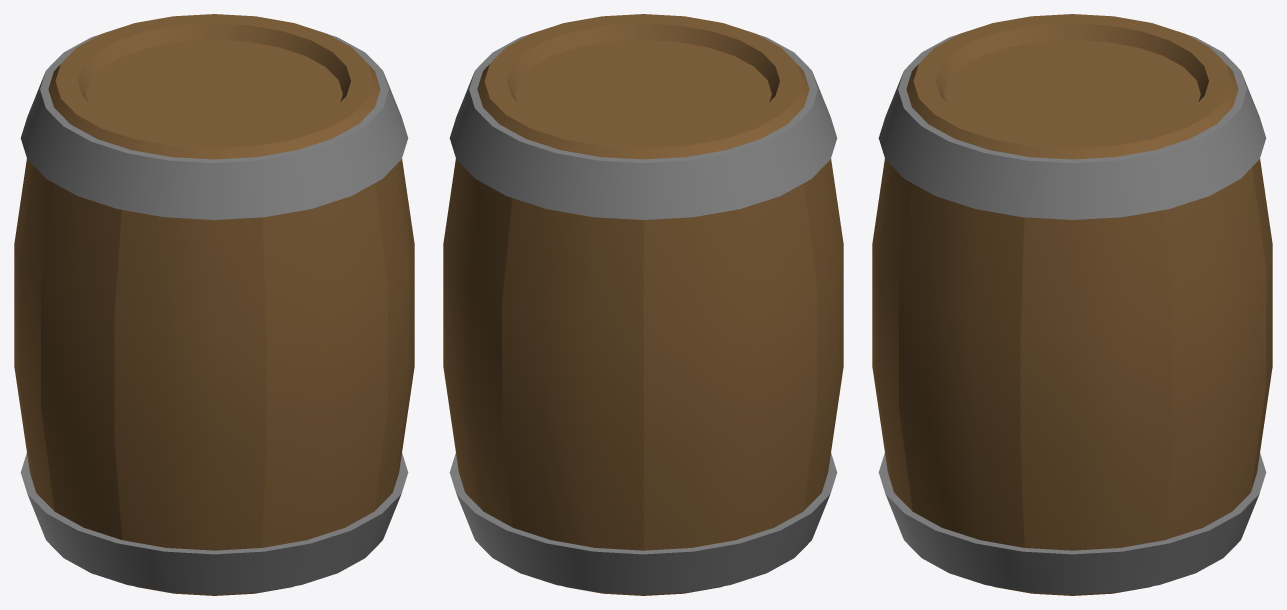
The model's file is barrel.fbx.
3 views of the same model, side by side, from view 1: azimuth 30°, elevation 25°; view 2: azimuth 150°, elevation 25°; view 3: azimuth 270°, elevation 25° (orthographic).
Visible parts, largest first — view 1: Barrel; view 2: Barrel; view 3: Barrel.
Boxes of the visible parts, x1,y1,x2,y2 form: Barrel: (14, 14, 414, 595); Barrel: (443, 14, 843, 595); Barrel: (872, 14, 1272, 595).
Size of the model in its own units: 66.48 by 66.48 by 82.25.
